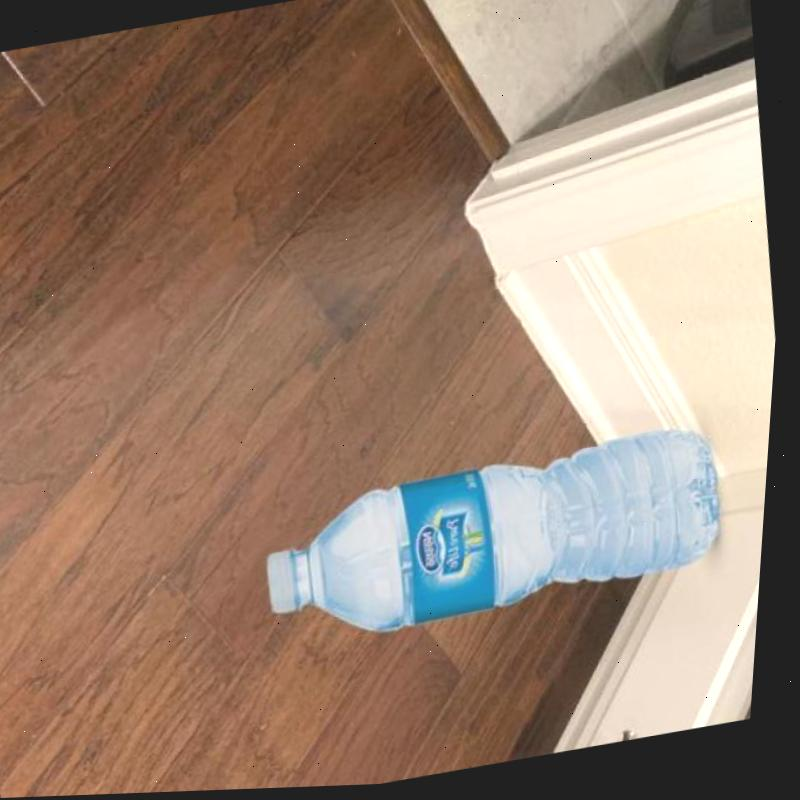botella: (254, 424, 743, 652)
